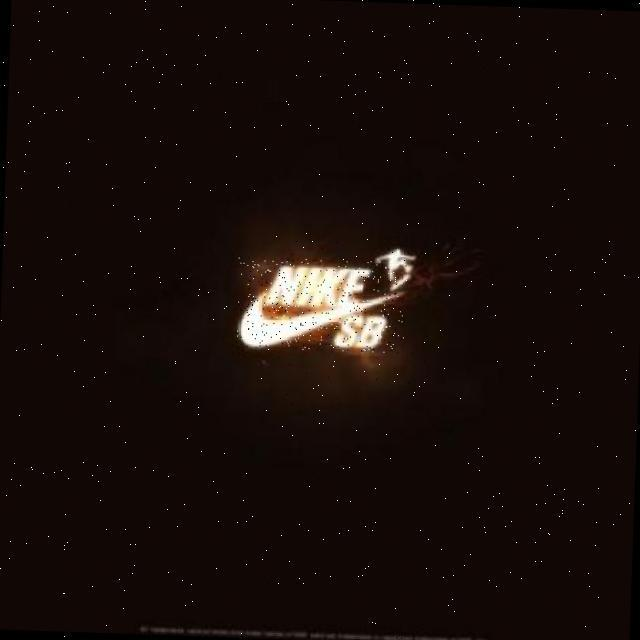Nike: (235, 256, 407, 353)
